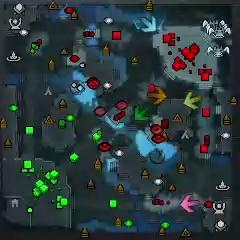x1: (181, 194, 199, 213)
x2: (184, 92, 202, 109)
x3: (140, 16, 156, 32)
x4: (135, 105, 151, 122)
x5: (148, 86, 167, 105)
